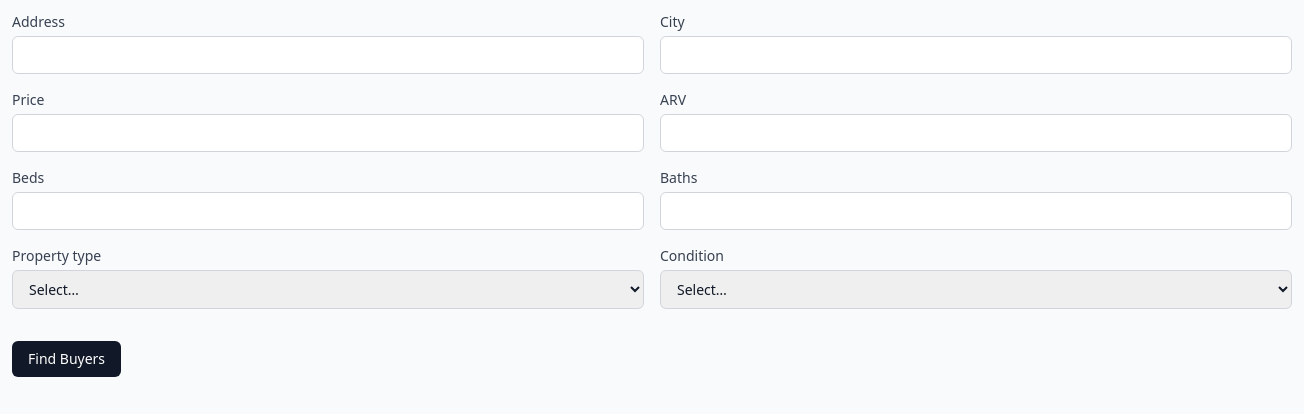
Test: PropertyForm › displays live Deal_ARV_Pct to one decimal while price>0 and arv>0 (13.2)
Type "150000" into the number field labelled "Price".
click(328, 133); type("150000")  # box [12, 114, 644, 152]
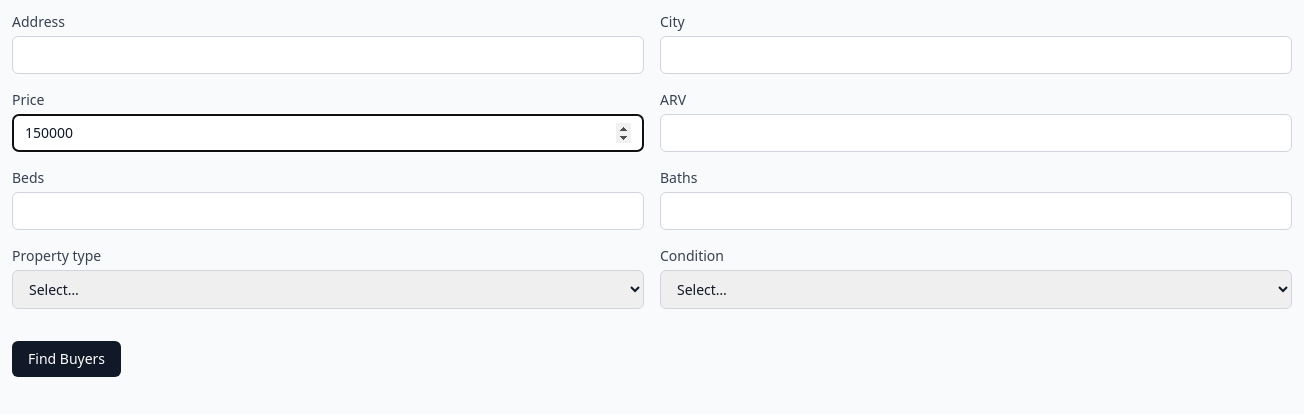
Type "200000" into the number field labelled "ARV".
click(976, 133); type("200000")  # box [660, 114, 1292, 152]
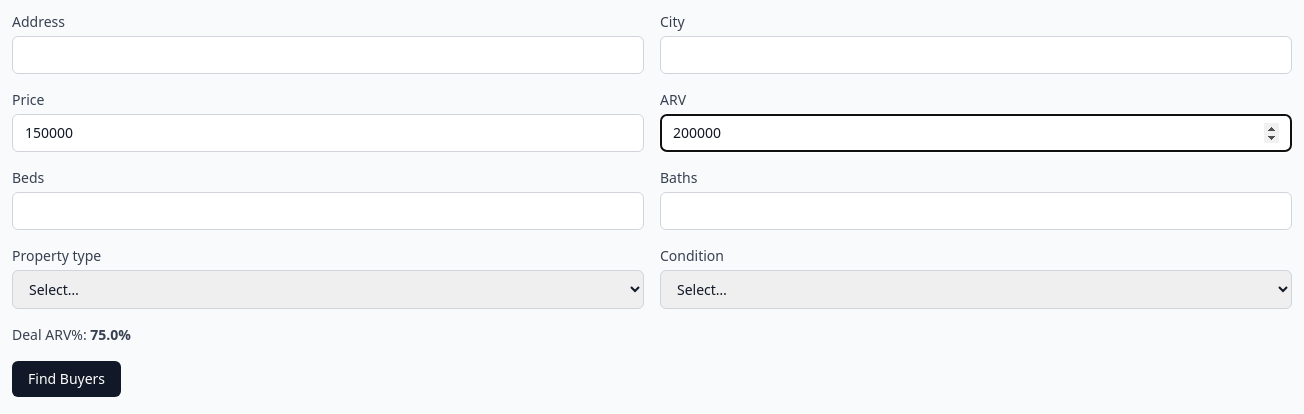
Now the text with test id "deal-arv-pct" reads "75.0%", box [90, 325, 131, 344]
